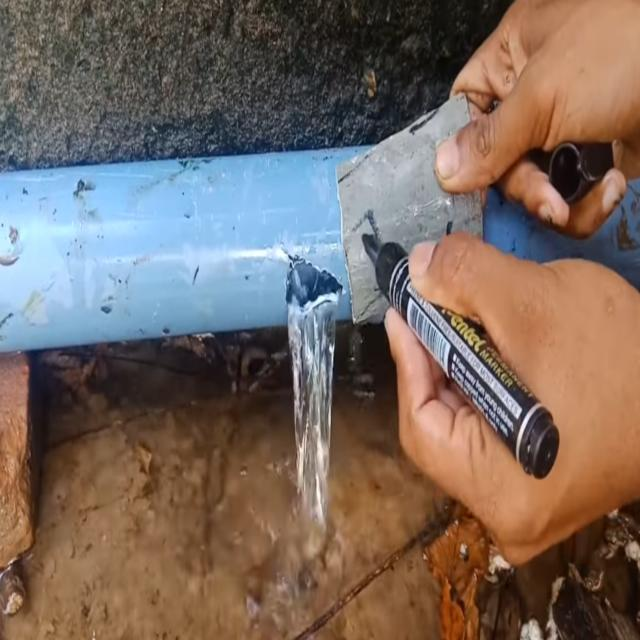leak: (286, 258, 342, 528)
